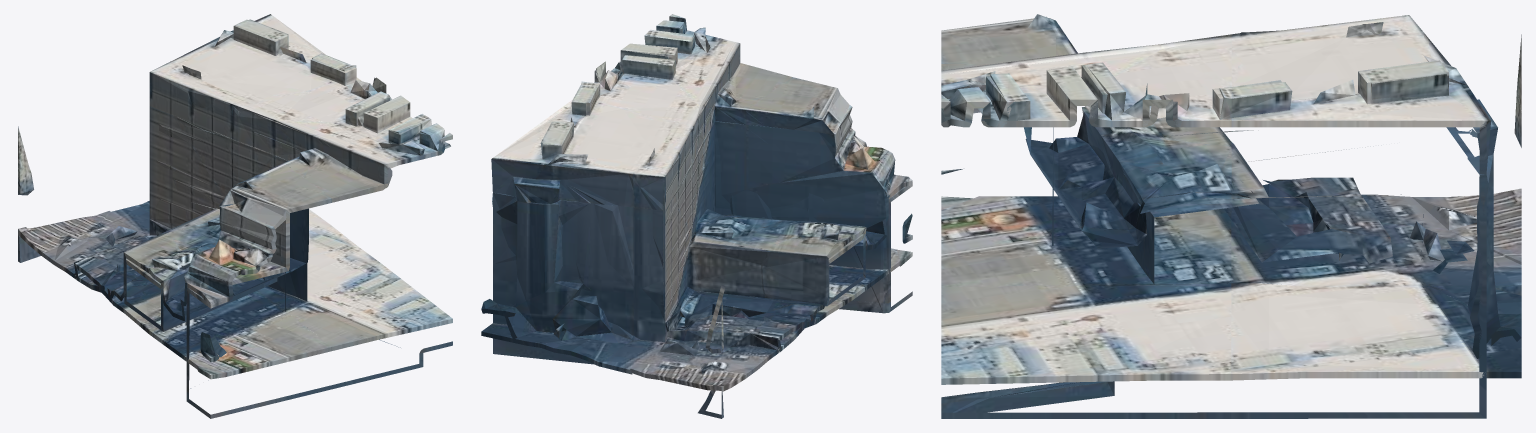
Rendered from chunk_-1_-3.glb.
The picture shows the model from 3 angles, left to right: view 1: azimuth 30°, elevation 25°; view 2: azimuth 150°, elevation 25°; view 3: azimuth 270°, elevation 25°; orthographic projection. The views are drawn at different scales.
Parts seen in each view (by area): view 1: hero-chunk; view 2: hero-chunk; view 3: hero-chunk.
Part boxes in pixels (<box>): hero-chunk: <box>18,14,452,418</box>; hero-chunk: <box>481,14,912,418</box>; hero-chunk: <box>941,14,1521,418</box>.
Size of the model in its own units: 56.65 by 50.39 by 76.32.
Materials: 2 (2 with a texture image).
